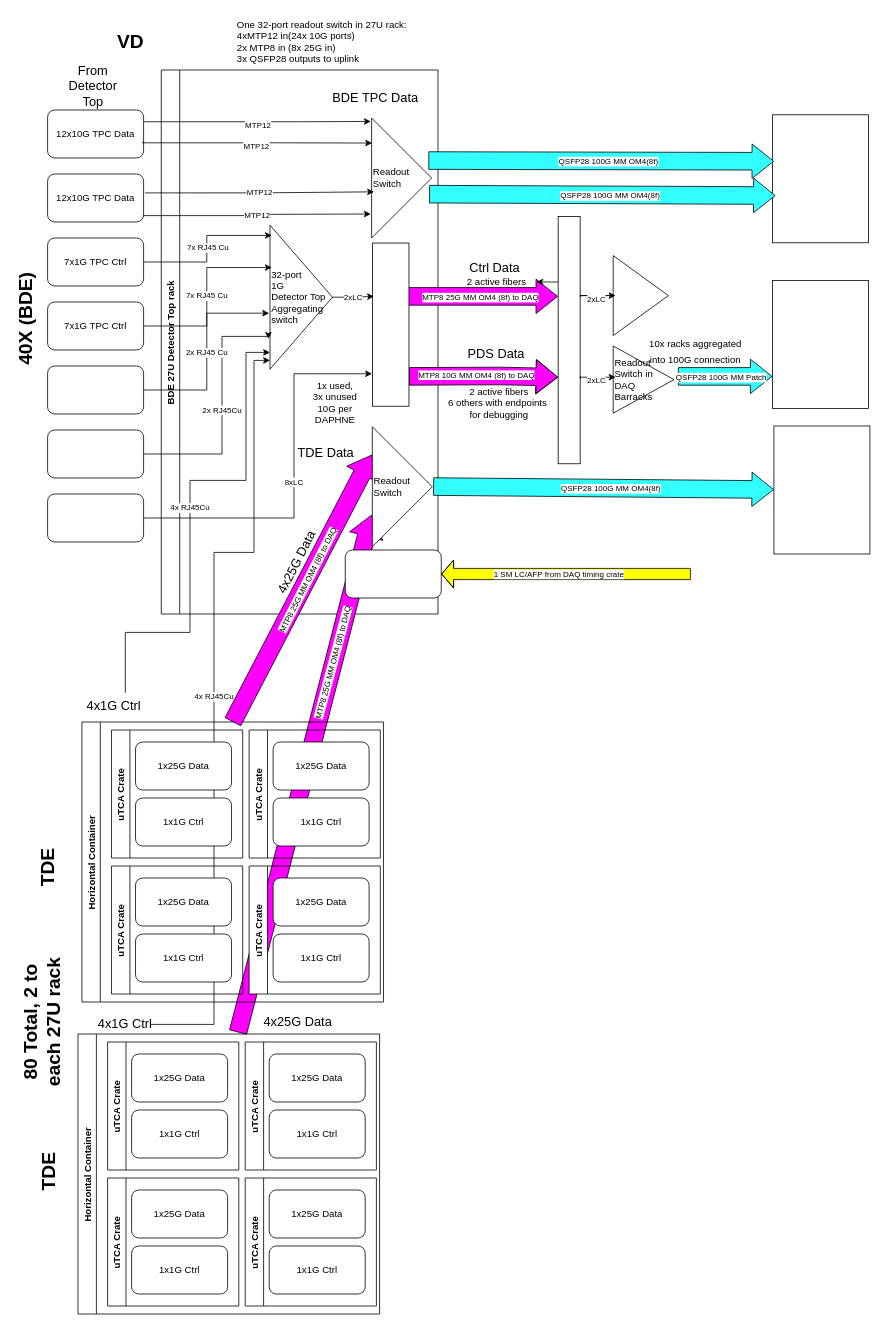
Some shapes in this 884 by 1328 pixel diagram are drawn without their labels. Each missing label, with the box of its shape:
1x10G PDS Data: (47, 493, 144, 542)
2x1G DPS (and likely more!): (47, 365, 144, 414)
2x1G PDS Ctrl: (47, 429, 144, 478)
BDE PDS Readout Server 4x100G inputs (reads out 40x 27U racks): (772, 280, 868, 408)
BDE TPC Readout Server 4x100G inputs (reads out 2x 27U racks): (772, 114, 868, 243)
Ctrl network switch in DAQ Barracks: (612, 255, 668, 336)
Patch Panel (27U): (372, 242, 409, 406)
Patch Panel (DAQ Barracks): (557, 216, 580, 464)
TDE Readout Server 4x100G inputs (reads out 4x Horizontal Containers): (773, 425, 870, 554)
Timing splitter x 6: (344, 549, 441, 598)
